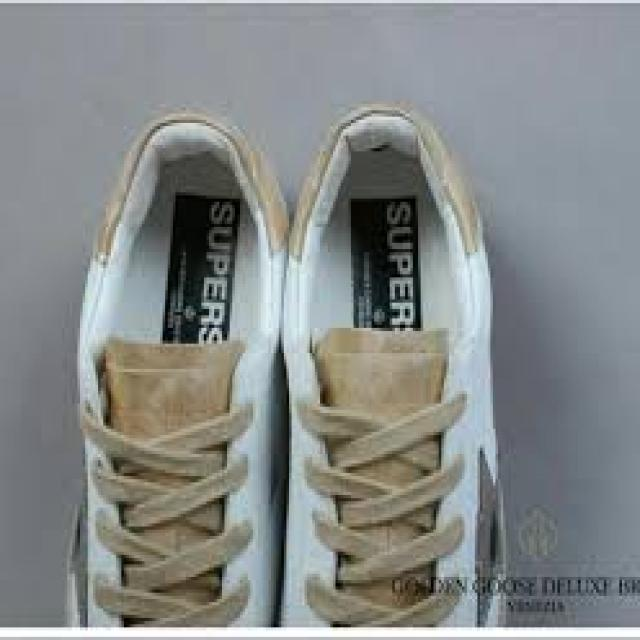shoe: (279, 104, 503, 627), (67, 110, 289, 627)
